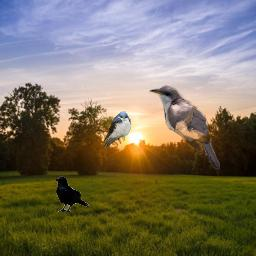Crow: (54, 176, 90, 212)
Cuckoo: (148, 84, 220, 171)
Swallow: (102, 111, 131, 148)
